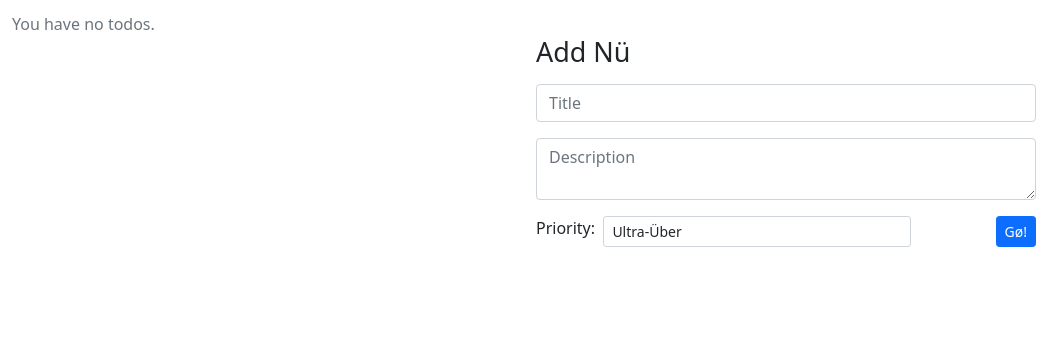
Scenario: editing todos › can edit a todo
The image size is (1048, 353).
Select "Über" in the dropdown named "priority": (757, 232) [603,216,911,247]
In the text box named "description": (786, 169) [536,138,1036,200], type "descTodo"
In the field named "title": (786, 103) [536,84,1036,122], type "testTodo"
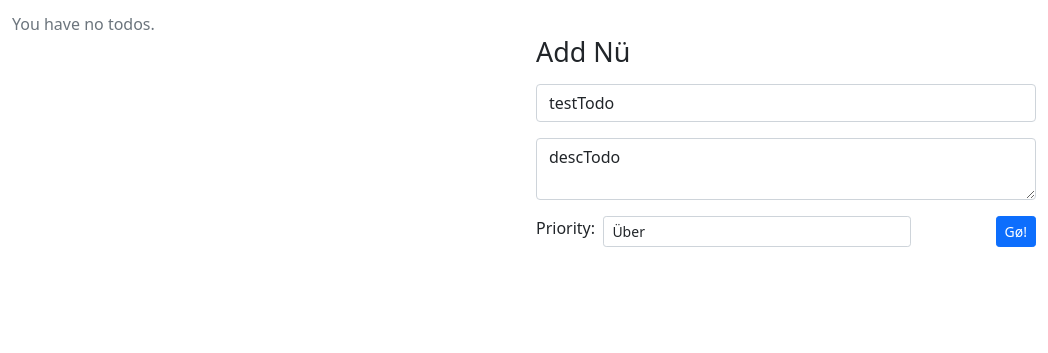
Click the button with class "NewTodoForm-addBtn": (1016, 232) [996,216,1036,247]
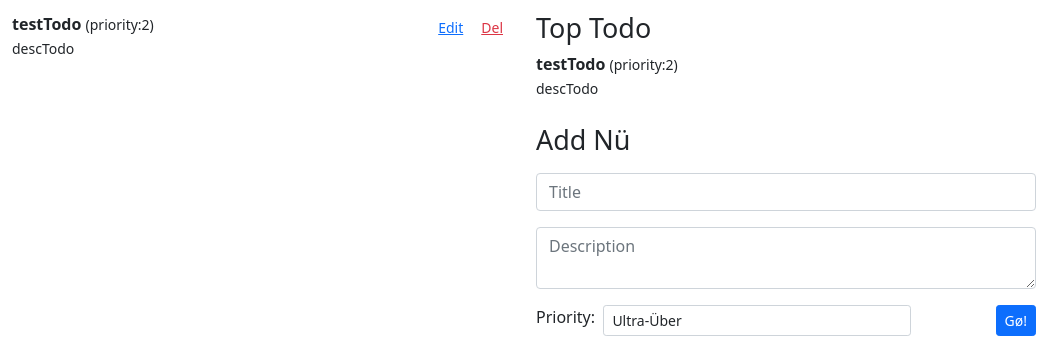
Select "Meh" in the dropdown named "priority": (757, 320) [603,305,911,336]
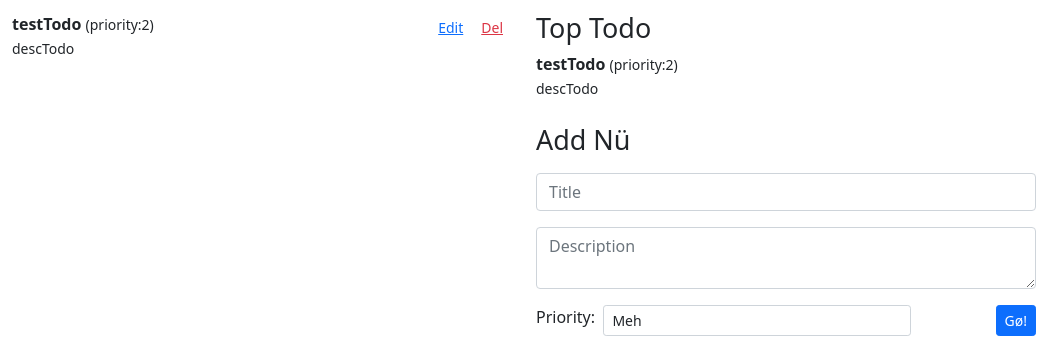
In the text box named "description": (786, 258) [536,227,1036,289], type "descTodoEdited"
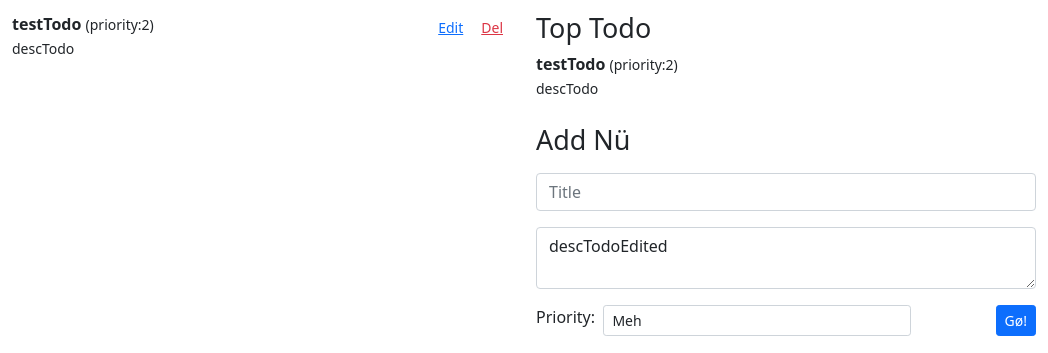
In the field named "title": (786, 192) [536,173,1036,211], type "testTodoEdited"
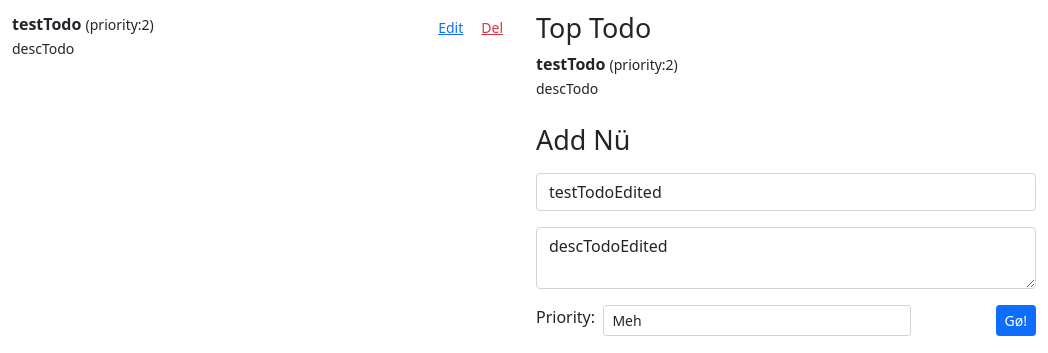
Click the button with class "NewTodoForm-addBtn": (1016, 320) [996,305,1036,336]
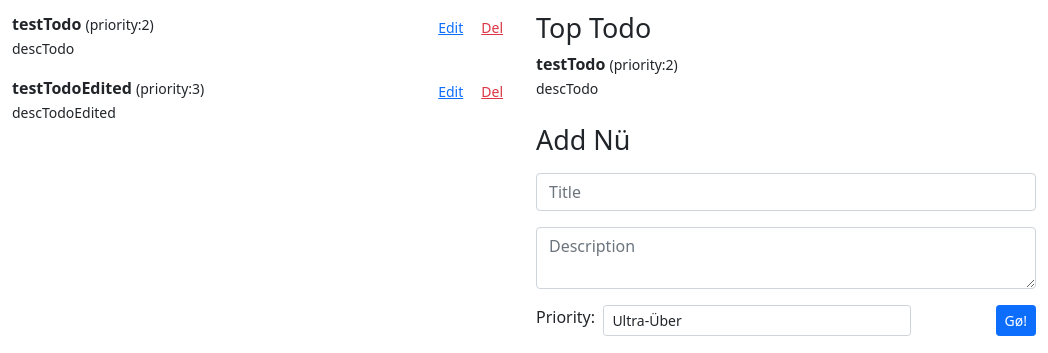
Check: the text "testTodoEdited" is shown, box [12,77,132,99]
